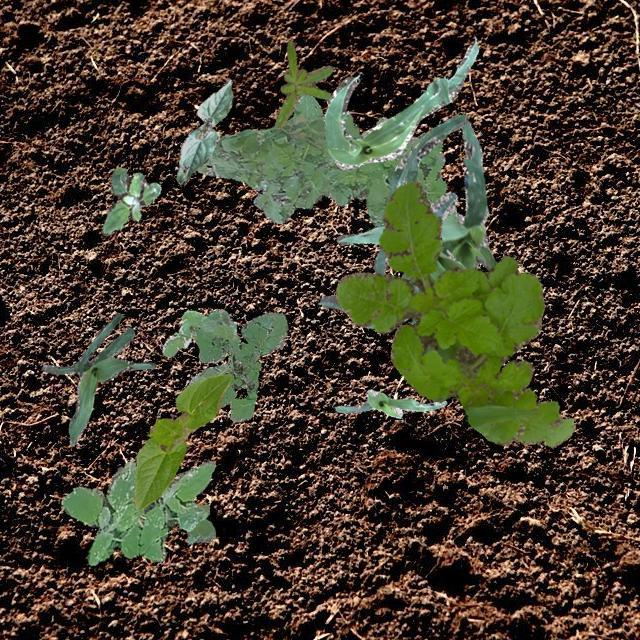crop: (318, 120, 496, 328), (323, 35, 478, 168), (372, 112, 466, 322), (42, 312, 154, 446), (132, 374, 230, 508), (175, 78, 232, 184), (334, 388, 446, 416)
weed: (334, 180, 574, 446), (195, 92, 446, 226), (60, 460, 214, 564), (162, 308, 286, 384), (188, 314, 272, 420), (274, 41, 332, 128), (102, 168, 160, 235), (186, 502, 213, 544)
